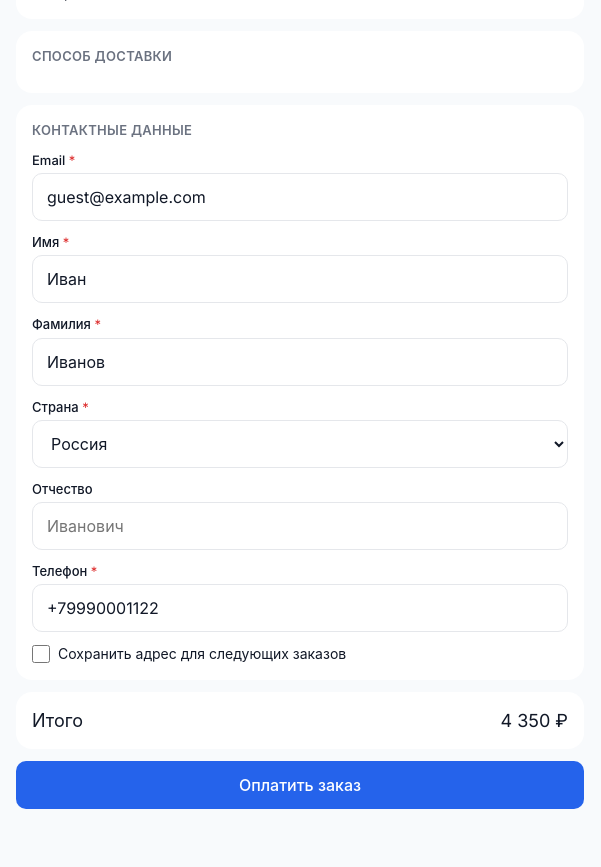
Scenario: GuestCheckout.vue › 503 при создании заказа: показывает «недоступен» с возможностью повторить
(page scrolled)
What coordinates should you click on to do the following:
click the button with test id "guest-checkout-submit"
I would click on:
 (300, 785)
Its box is [16, 761, 584, 809].
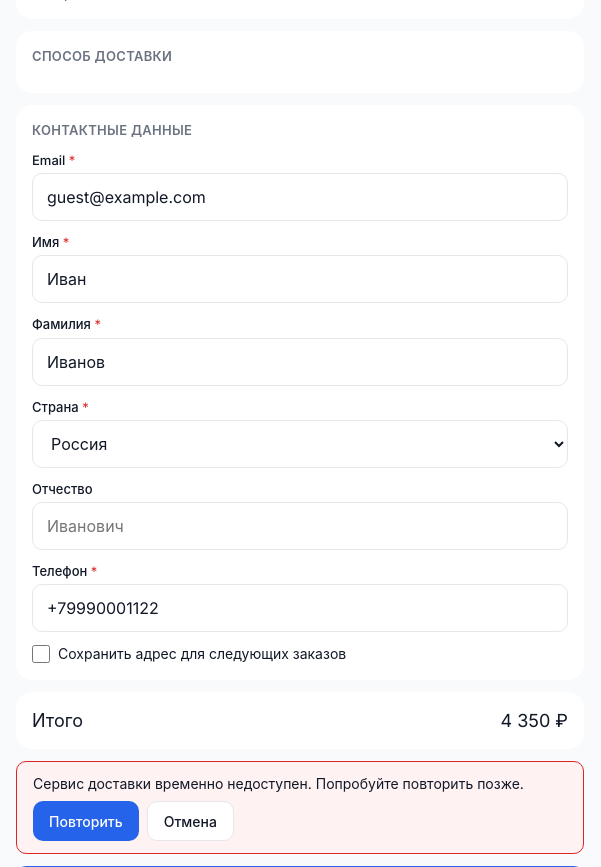
Now the message with test id "delivery-unavailable-notice" is shown, box [16, 761, 584, 854]
Now the message with test id "delivery-unavailable-notice" shows "временно недоступен", box [33, 775, 524, 792]
